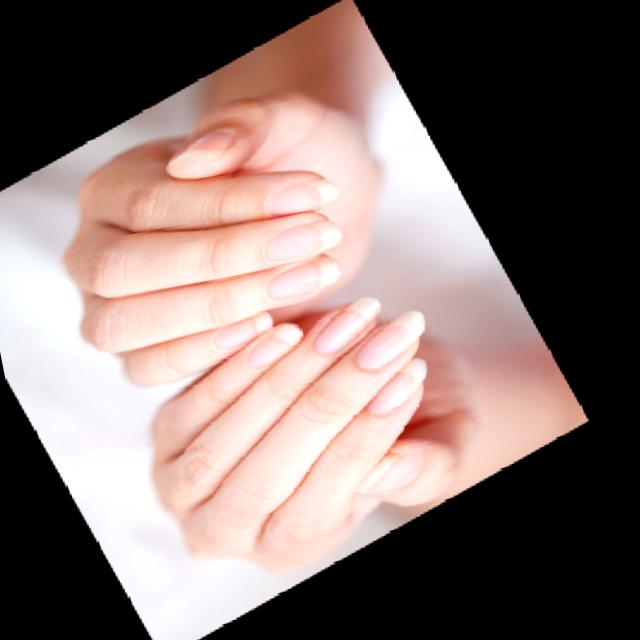Nail: (357, 308, 426, 368), (314, 295, 381, 354), (361, 438, 419, 499), (368, 357, 426, 414), (266, 220, 343, 261), (269, 259, 340, 297), (169, 126, 233, 165), (247, 323, 301, 366), (220, 313, 272, 346)
